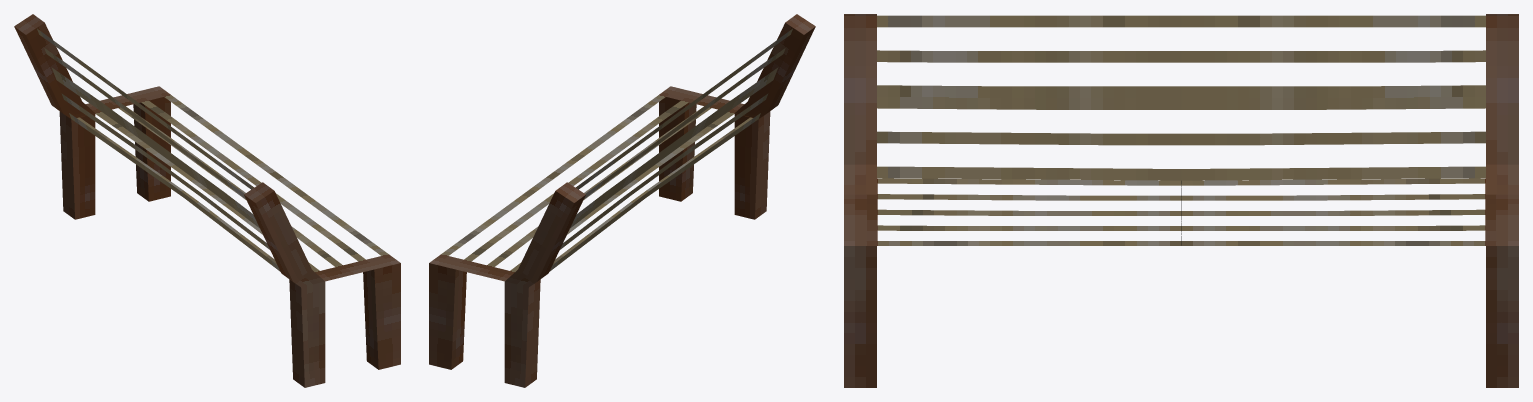
The model's file is Bench.gltf.
3 renders of one model, left to right at view 1: azimuth 30°, elevation 25°; view 2: azimuth 150°, elevation 25°; view 3: azimuth 270°, elevation 25°, orthographic. The views are drawn at different scales.
Parts seen in each view (by area): view 1: Plane; view 2: Plane; view 3: Plane.
Part boxes in pixels (x1,y1,x2,y2): Plane: (14, 14, 400, 387); Plane: (429, 14, 815, 387); Plane: (844, 14, 1518, 387).
Bounding box in the file's own units: 0.7873 × 1.06 × 2.27.
Materials: 1 (1 with a texture image).
